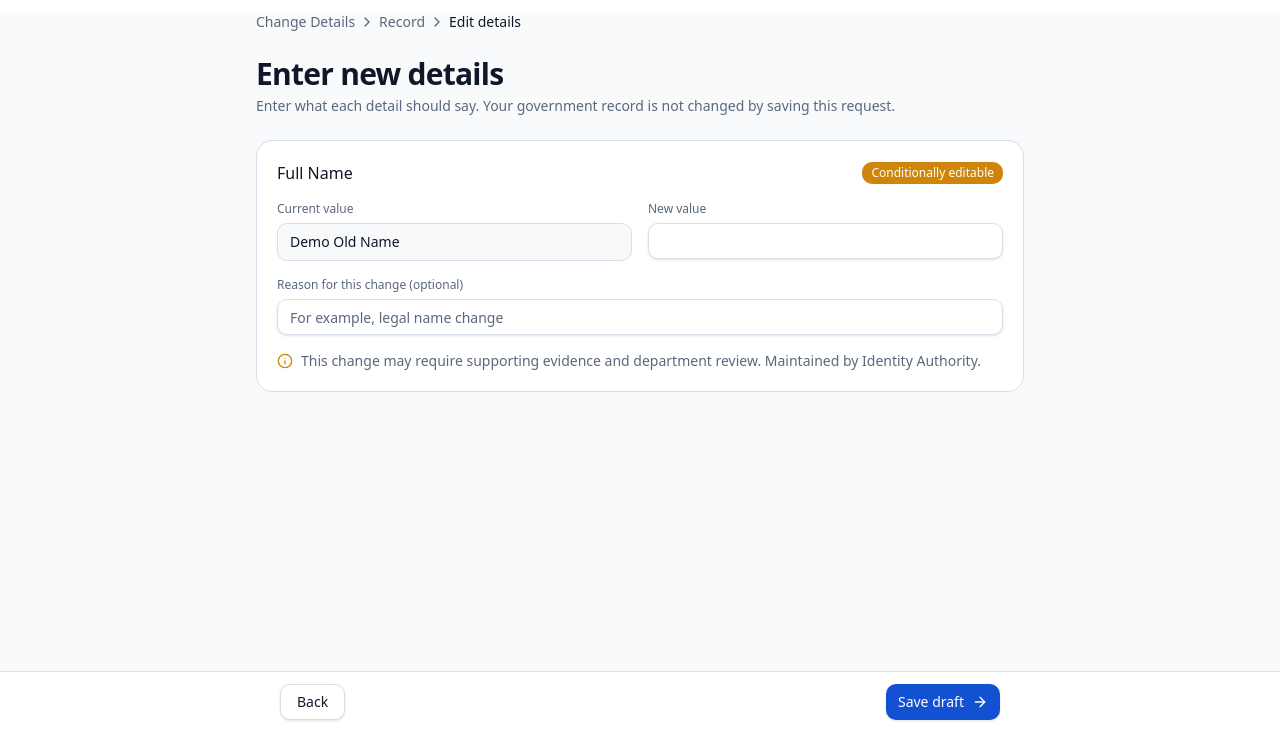
Test case: the correction form › explains a field that can no longer be changed
Step 1. Type "Demo New Name" into the field labelled "New value" → coordinates (826, 241), box x1=648 y1=223 x2=1003 y2=259
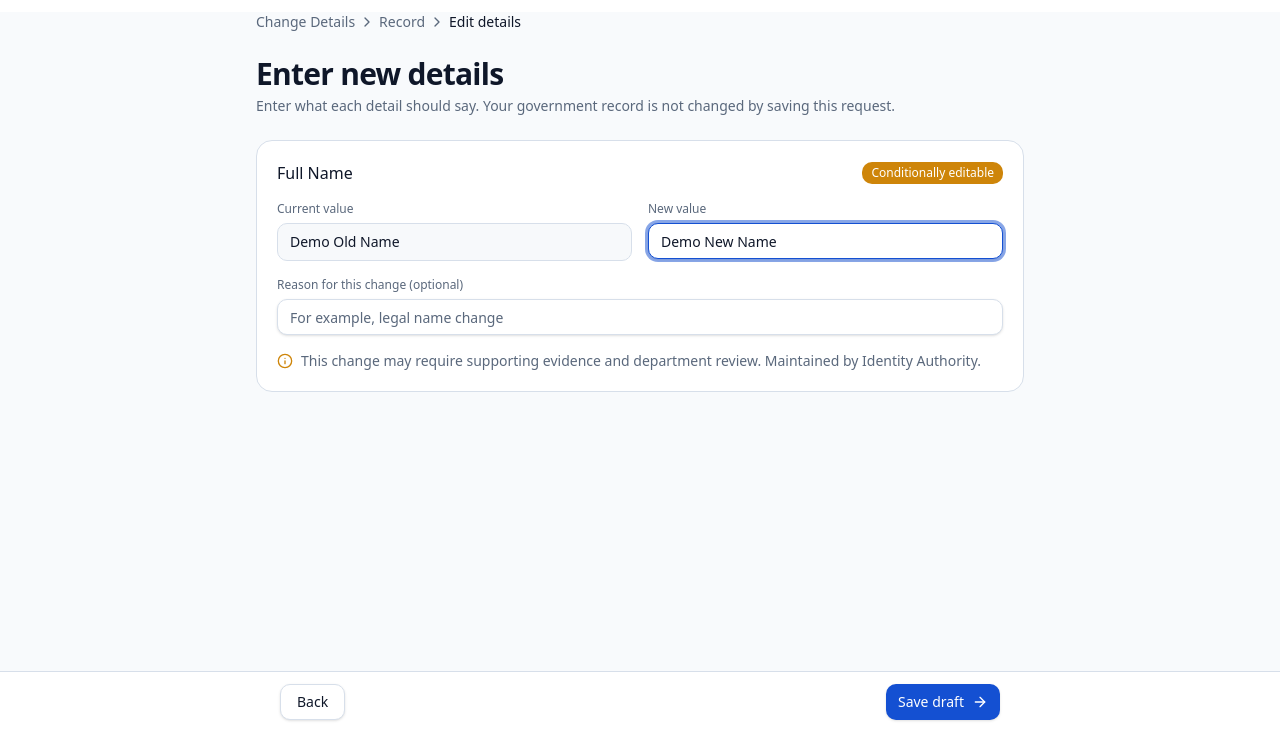
Step 2. Click the button "Save draft" → coordinates (943, 702), box x1=886 y1=684 x2=1000 y2=720
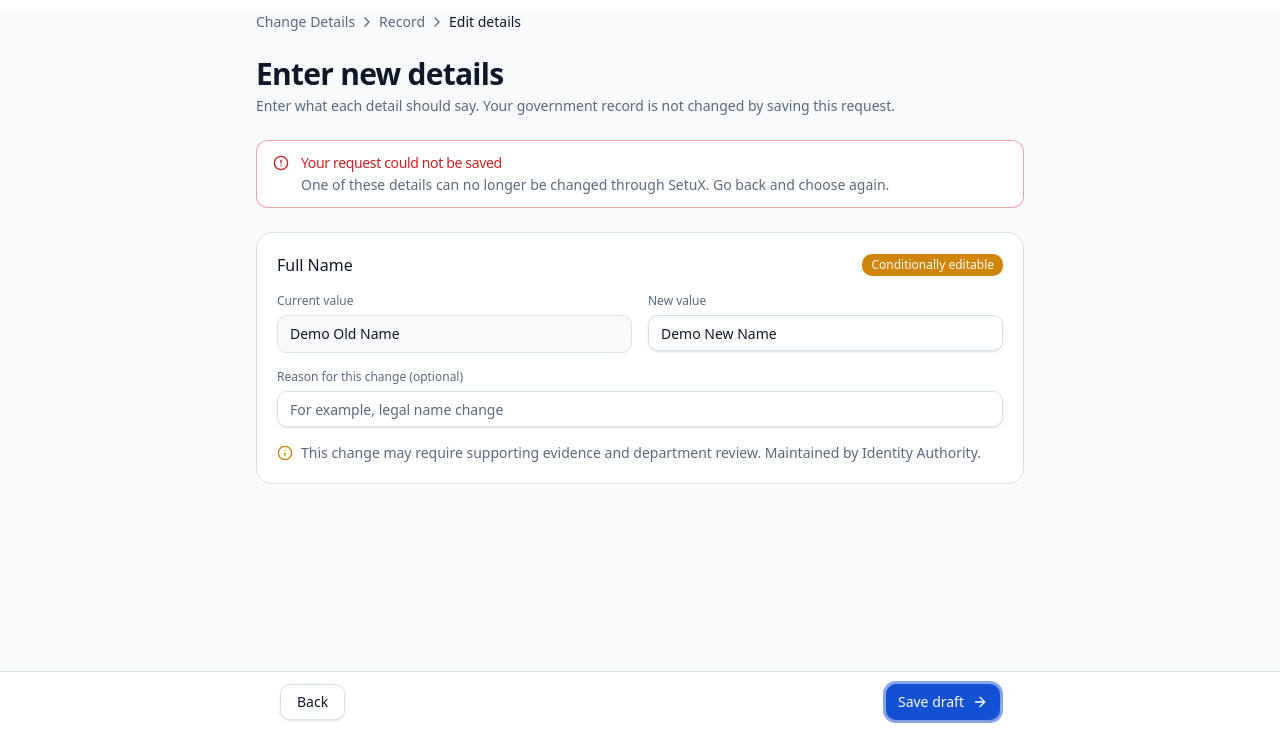
Now the text "can no longer be changed" is shown, box x1=301 y1=175 x2=889 y2=194
